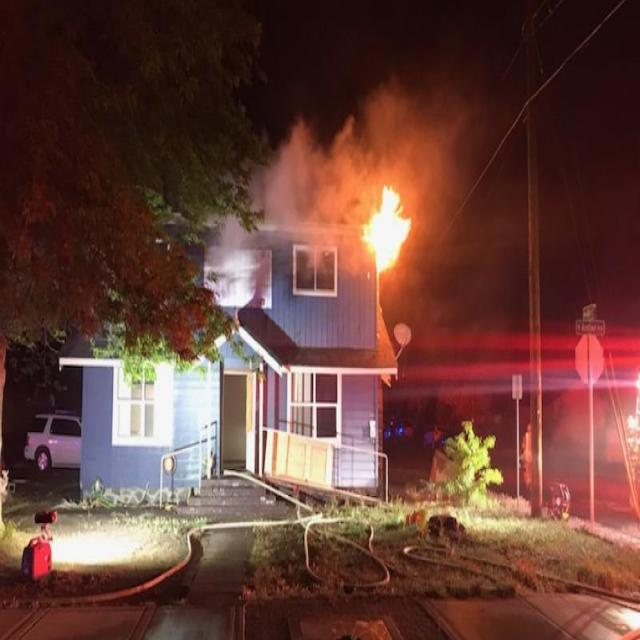Fire: (359, 196, 416, 276)
Smoke: (273, 80, 464, 229)
